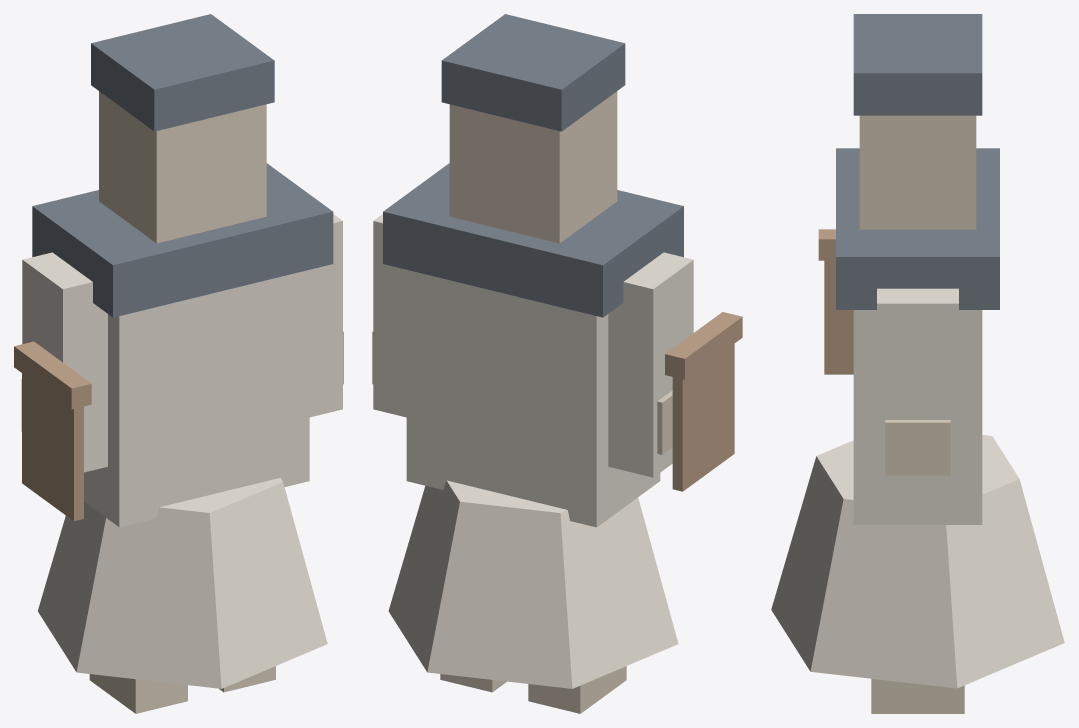
File: unit-coordinator.glb
3 views of the same model, side by side, from view 1: azimuth 30°, elevation 25°; view 2: azimuth 150°, elevation 25°; view 3: azimuth 270°, elevation 25° (orthographic).
Parts seen in each view (by area): view 1: unit-coordinator; view 2: unit-coordinator; view 3: unit-coordinator.
Part boxes in pixels (x1,y1,x2,y2): unit-coordinator: (14,14,343,713); unit-coordinator: (372,14,742,713); unit-coordinator: (771,14,1064,713).
Size of the model in its own units: 0.305 by 0.6 by 0.2511.
